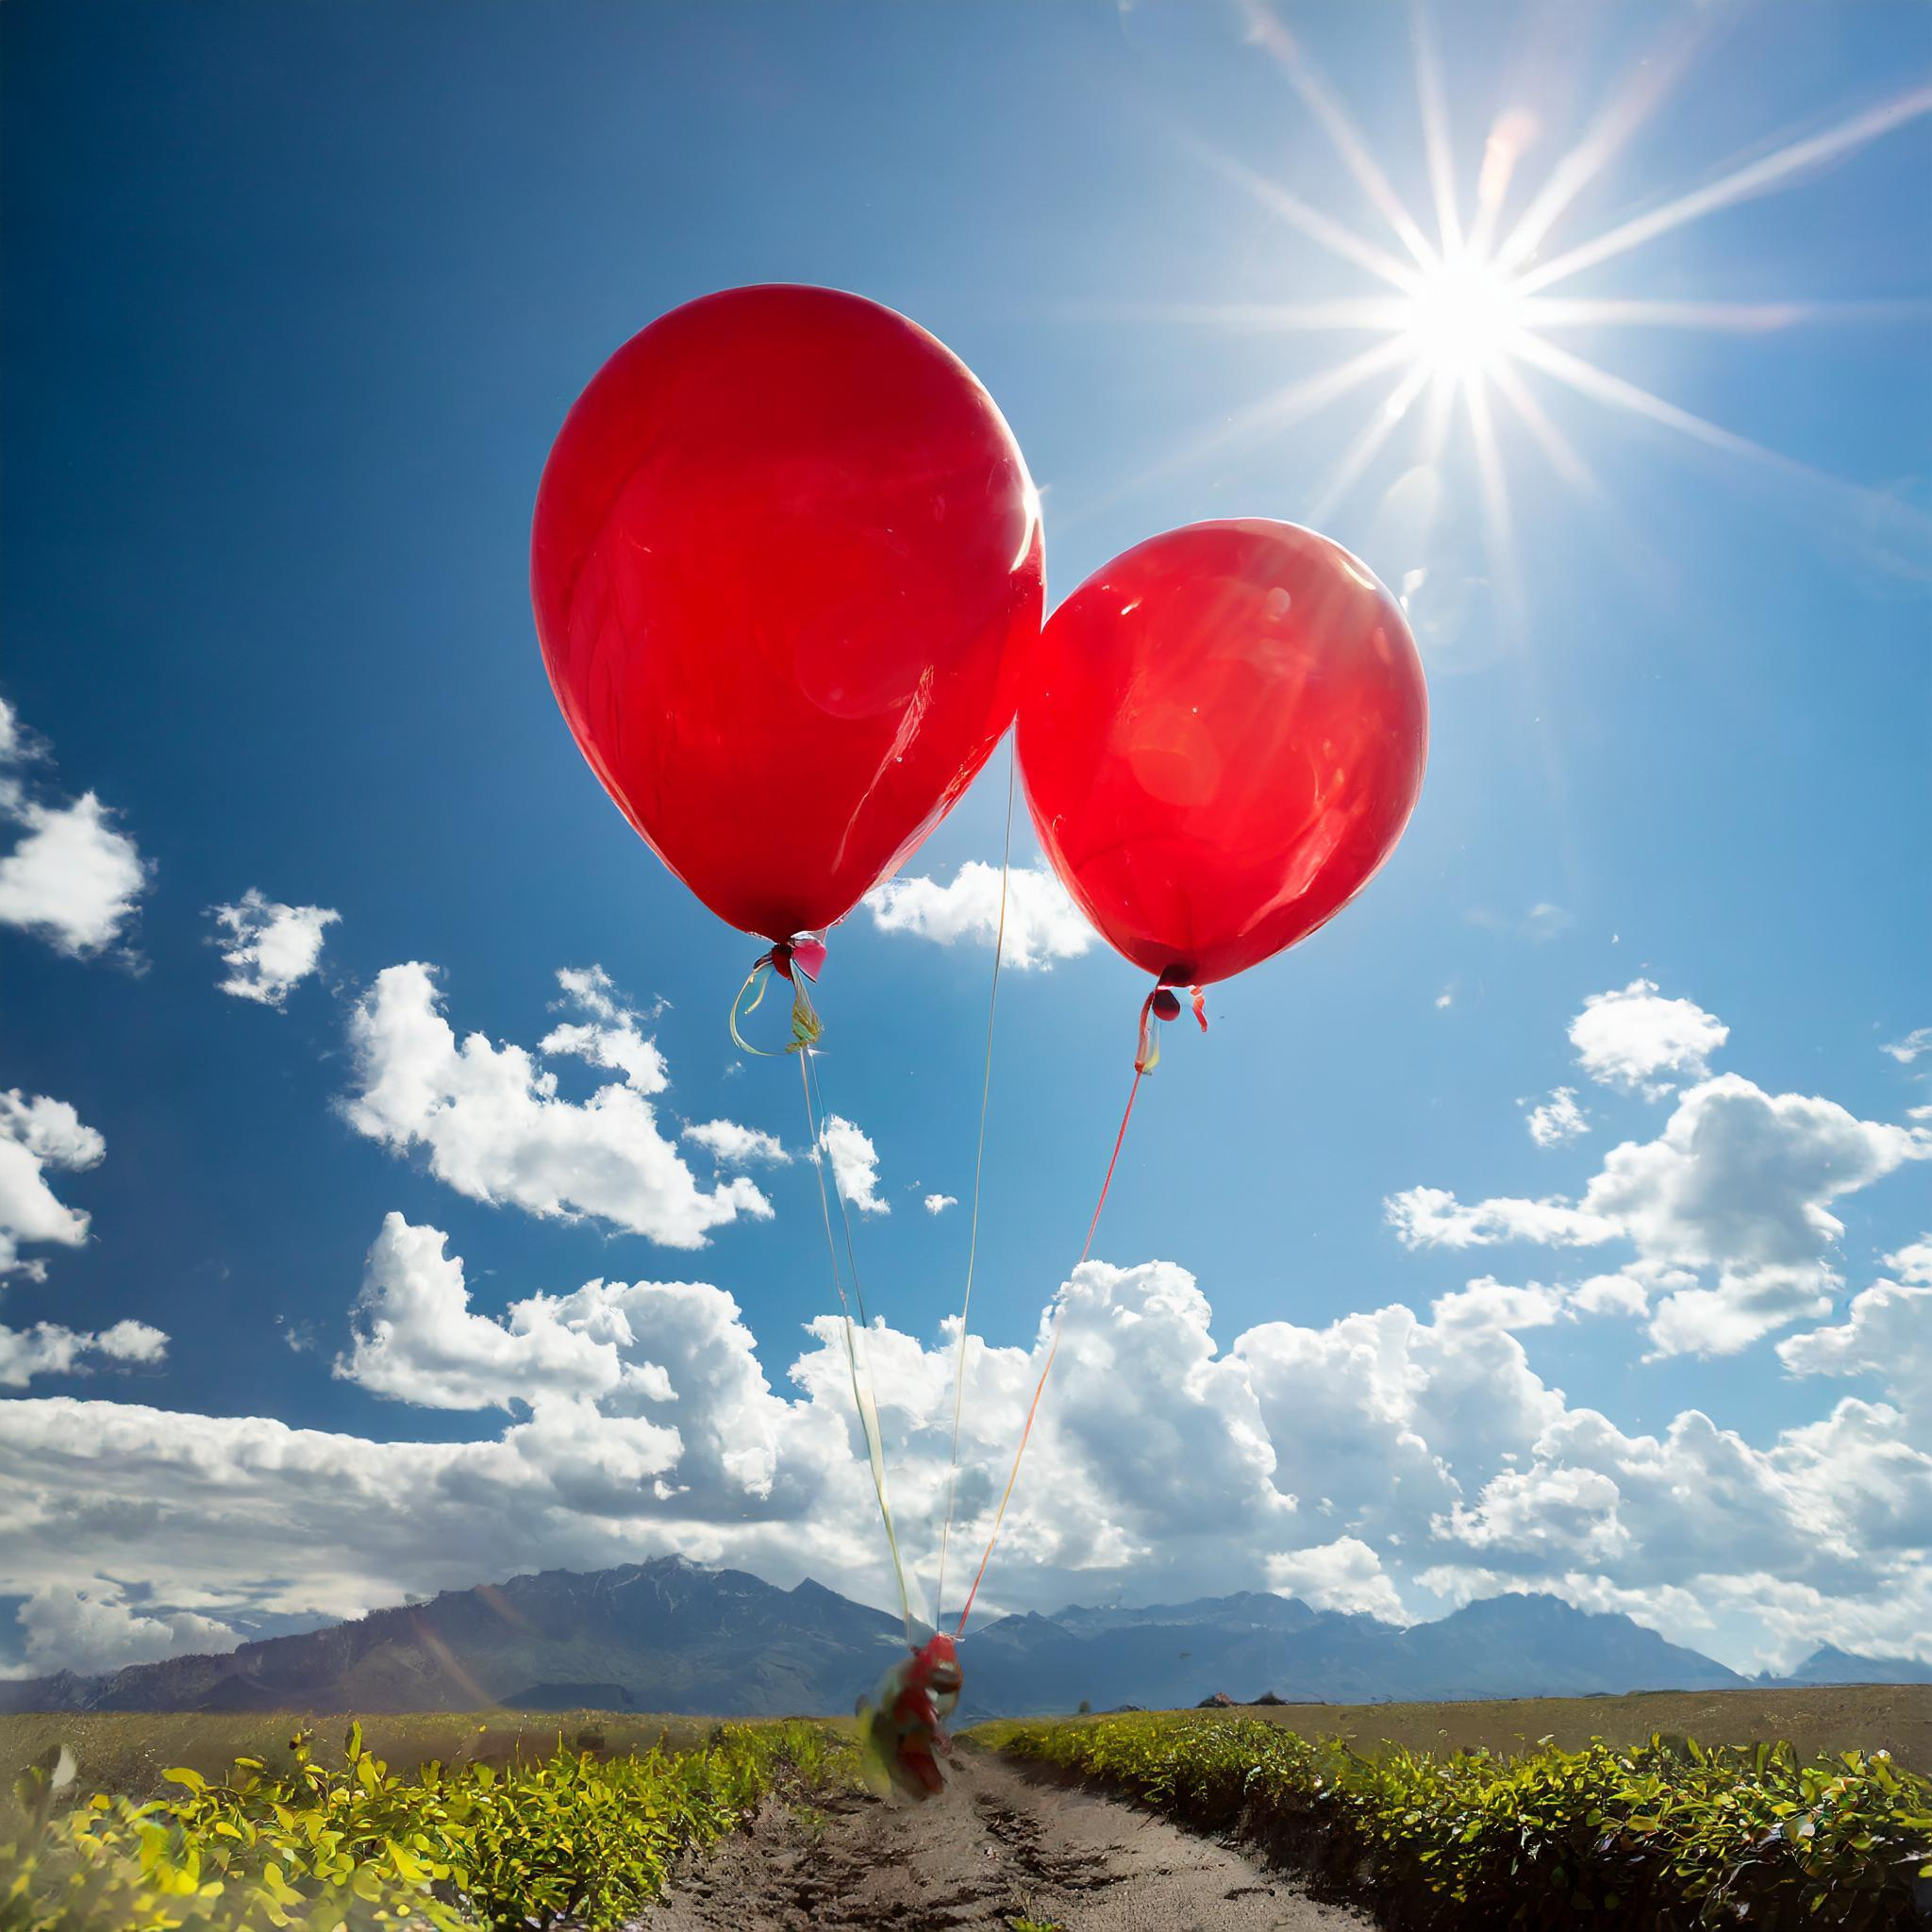red: (524, 265, 1056, 998), (1010, 508, 1445, 1040)
